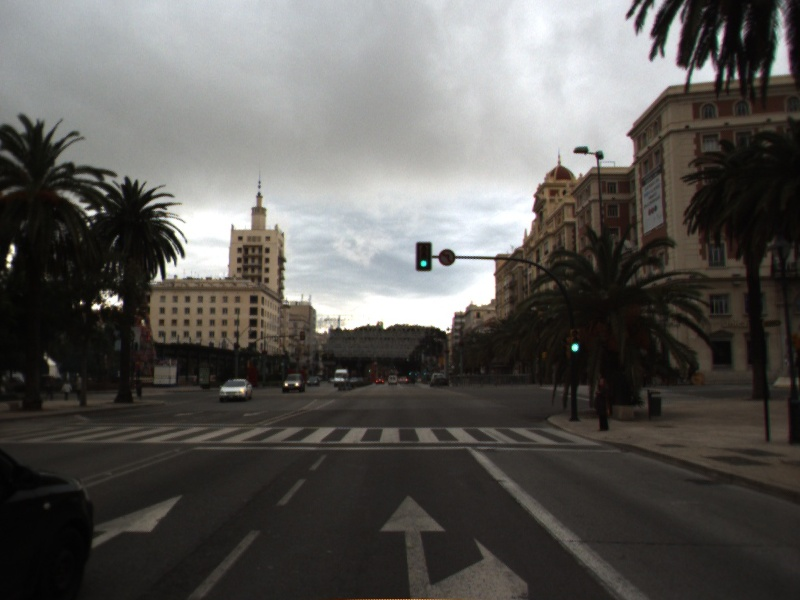STRAIGHT: (90, 492, 185, 550)
STRAIGHT_RIGHT: (377, 493, 531, 600)
